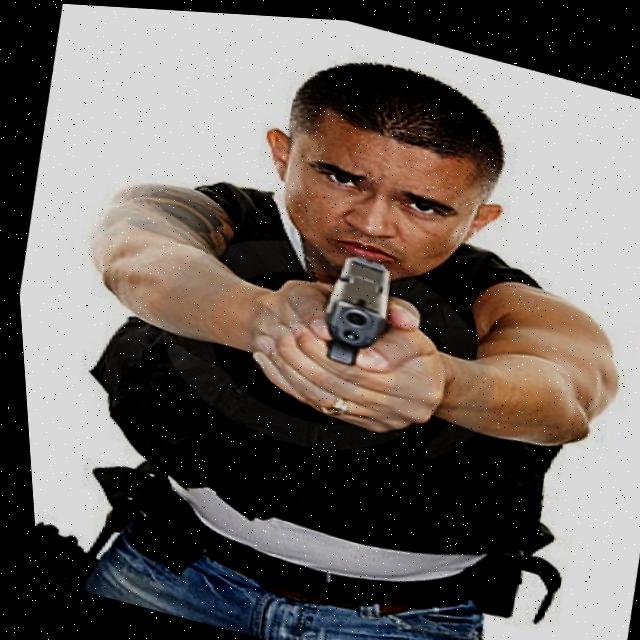pistol: (304, 242, 398, 371)
